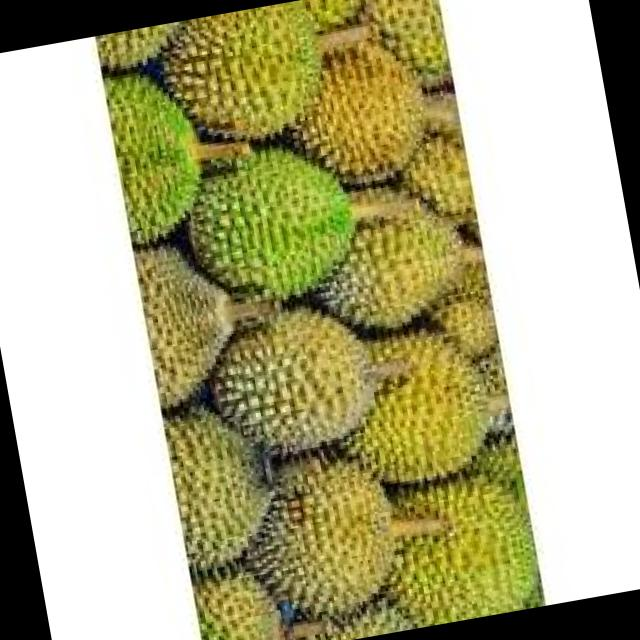fruit: (177, 260, 522, 529), (131, 0, 470, 228), (213, 427, 435, 640), (155, 129, 369, 325)
